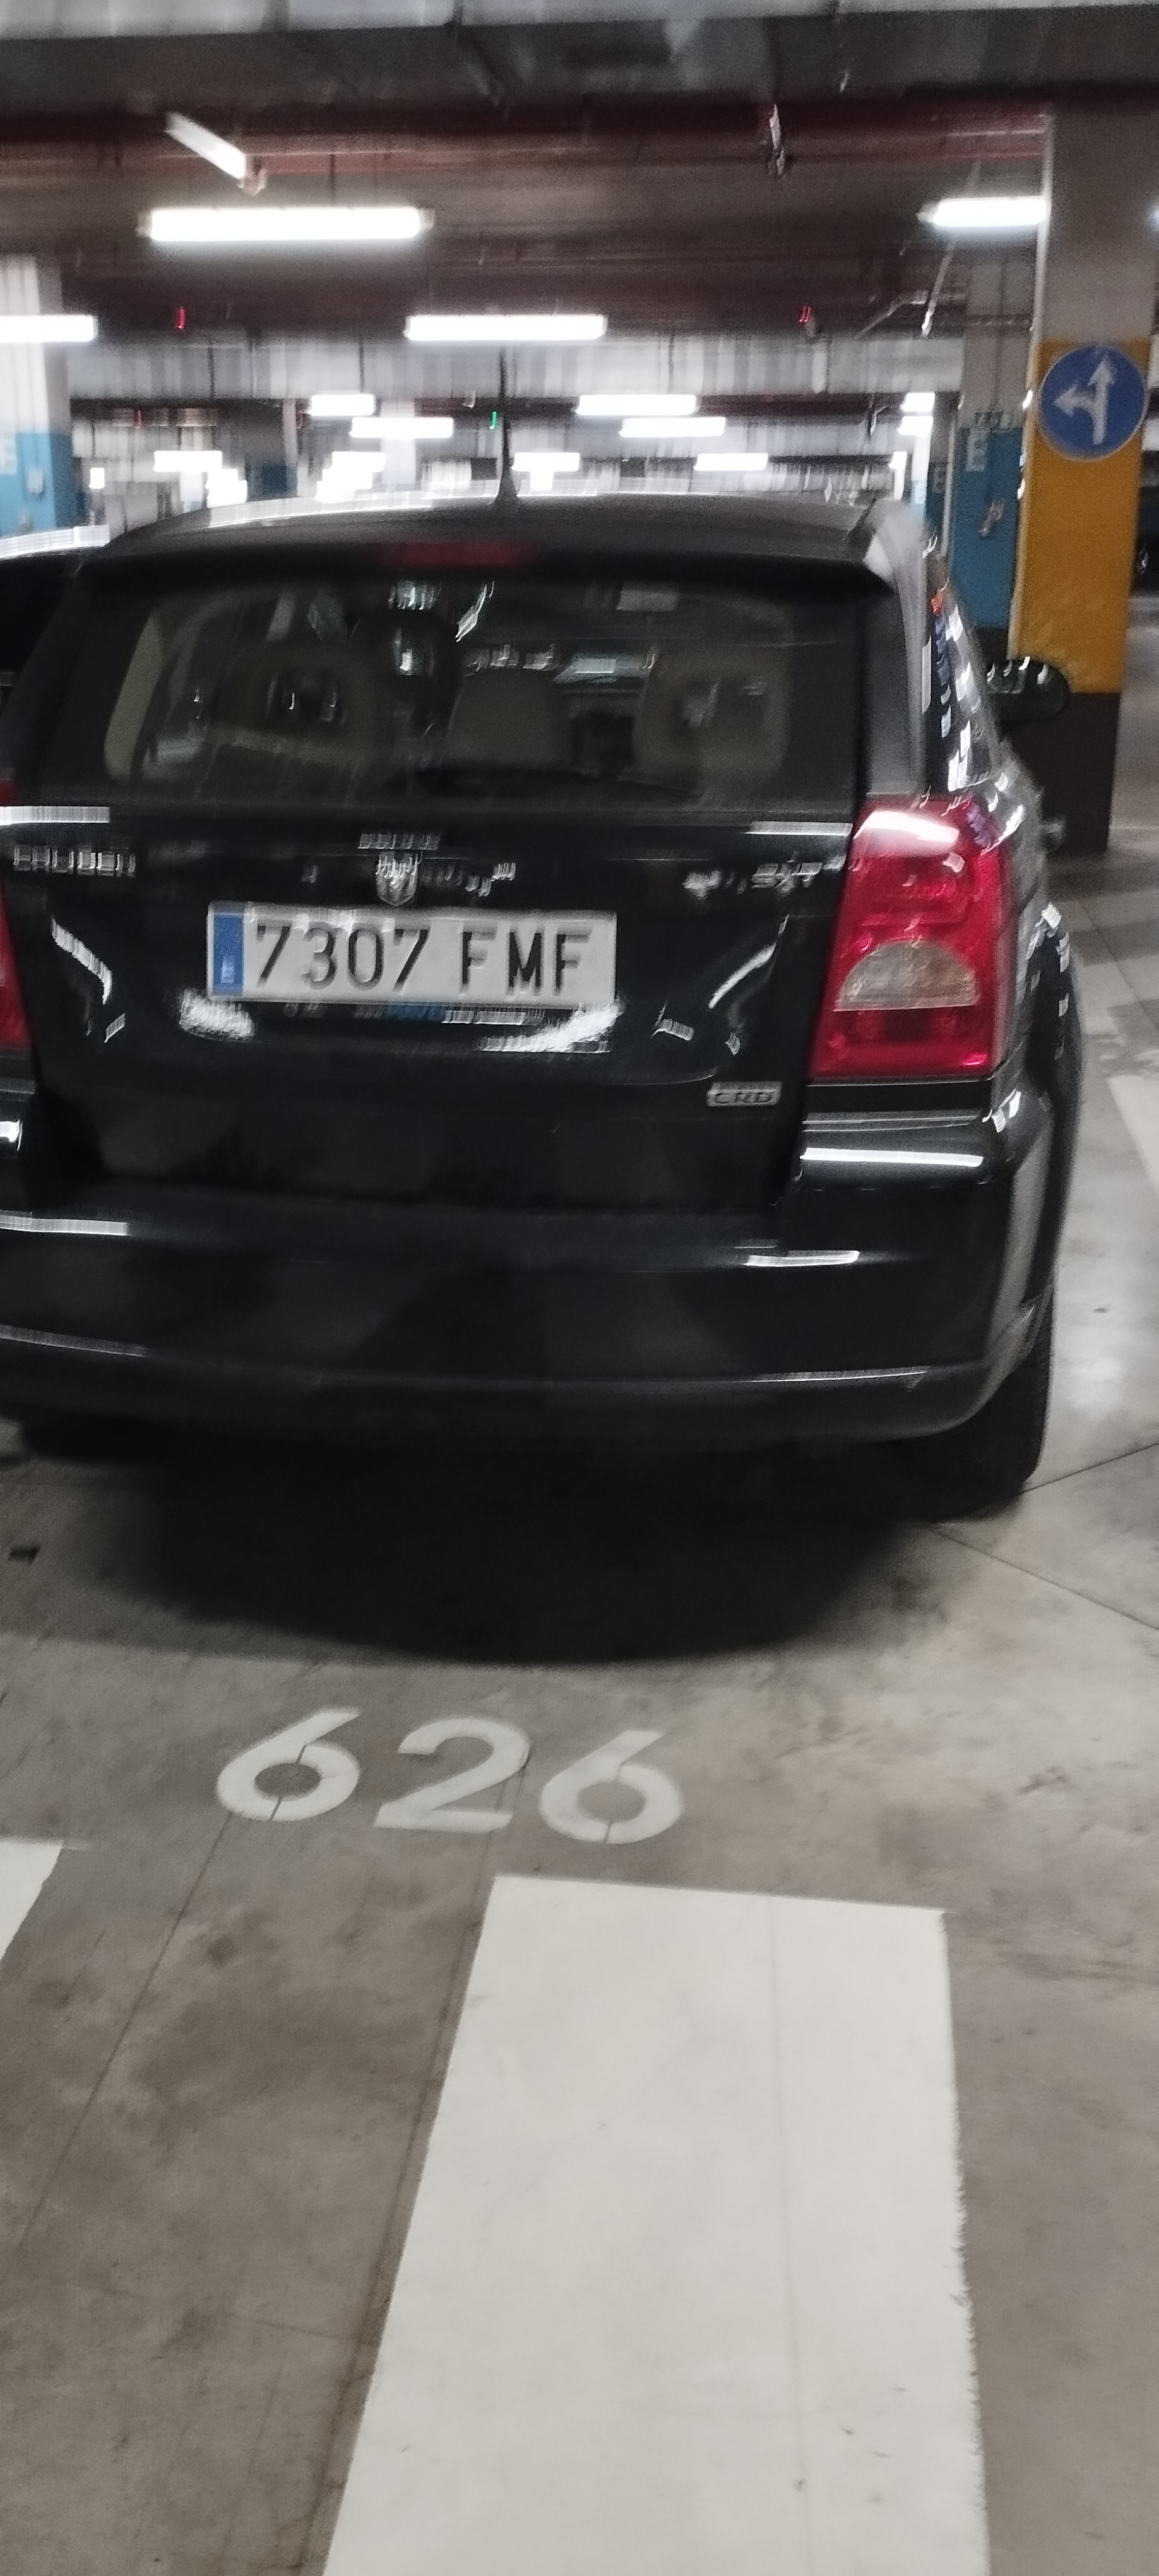Car: (0, 508, 1076, 1520)
Plate: (203, 903, 612, 1008)
